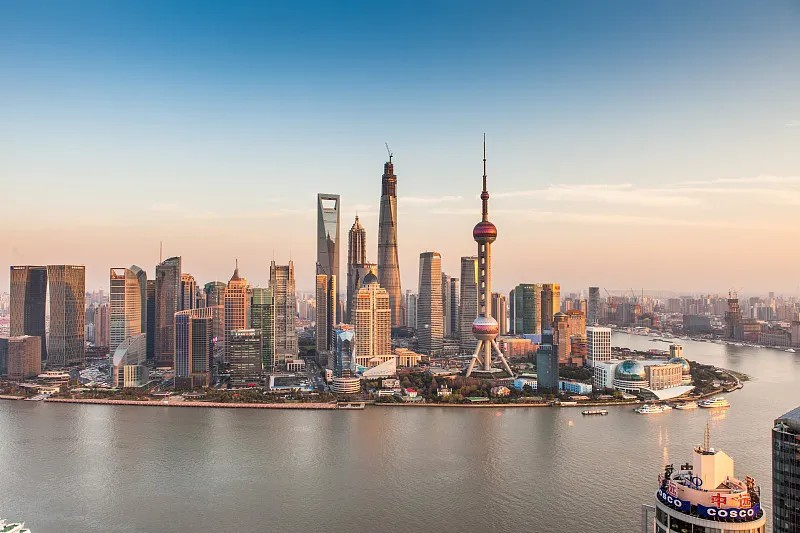Oriental: (466, 134, 515, 378)
